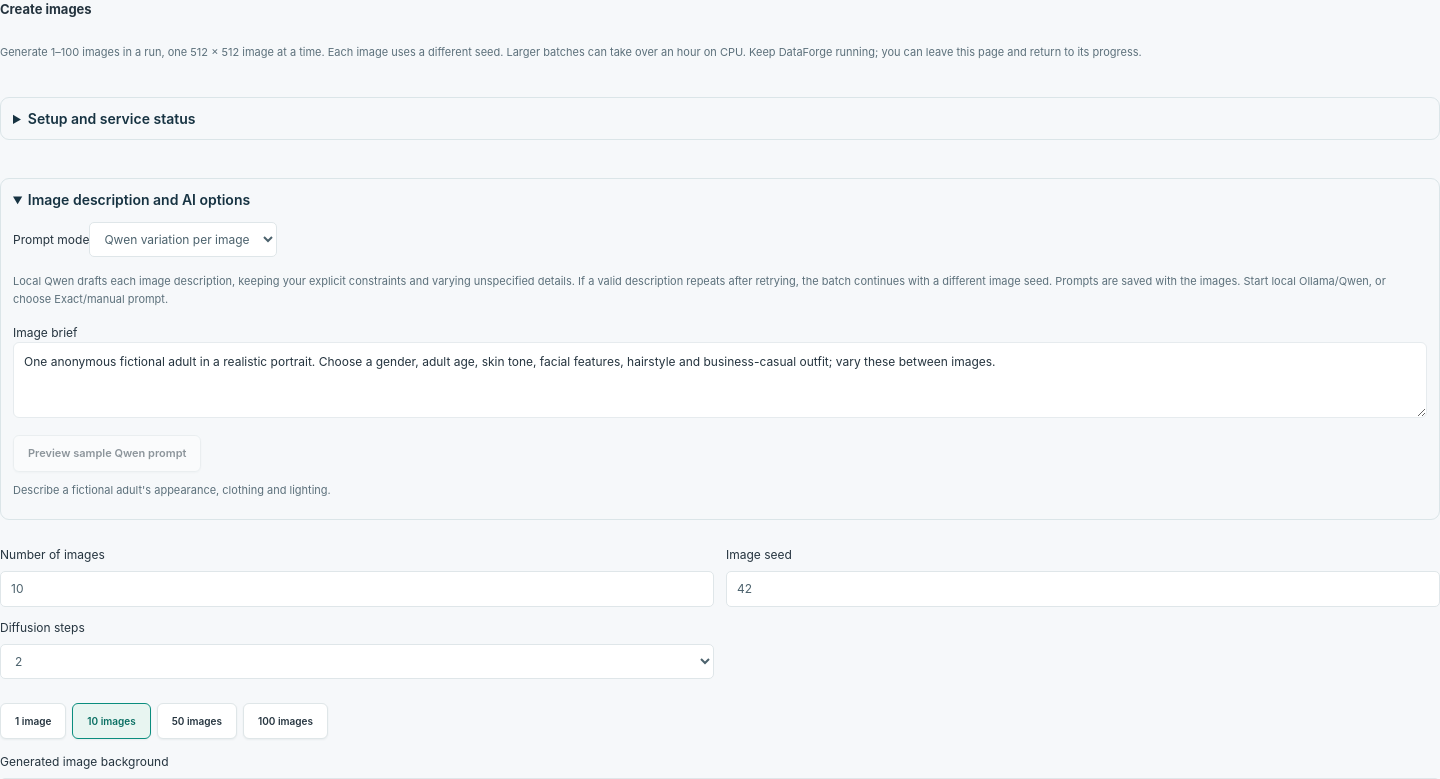
Test: shows setup instead of pretending an uninstalled model is ready
Select "Exact/manual prompt" in the dropdown labelled "Prompt mode" at point(183, 240), box top-left (89, 222), bottom-right (277, 257)
(page scrolled)
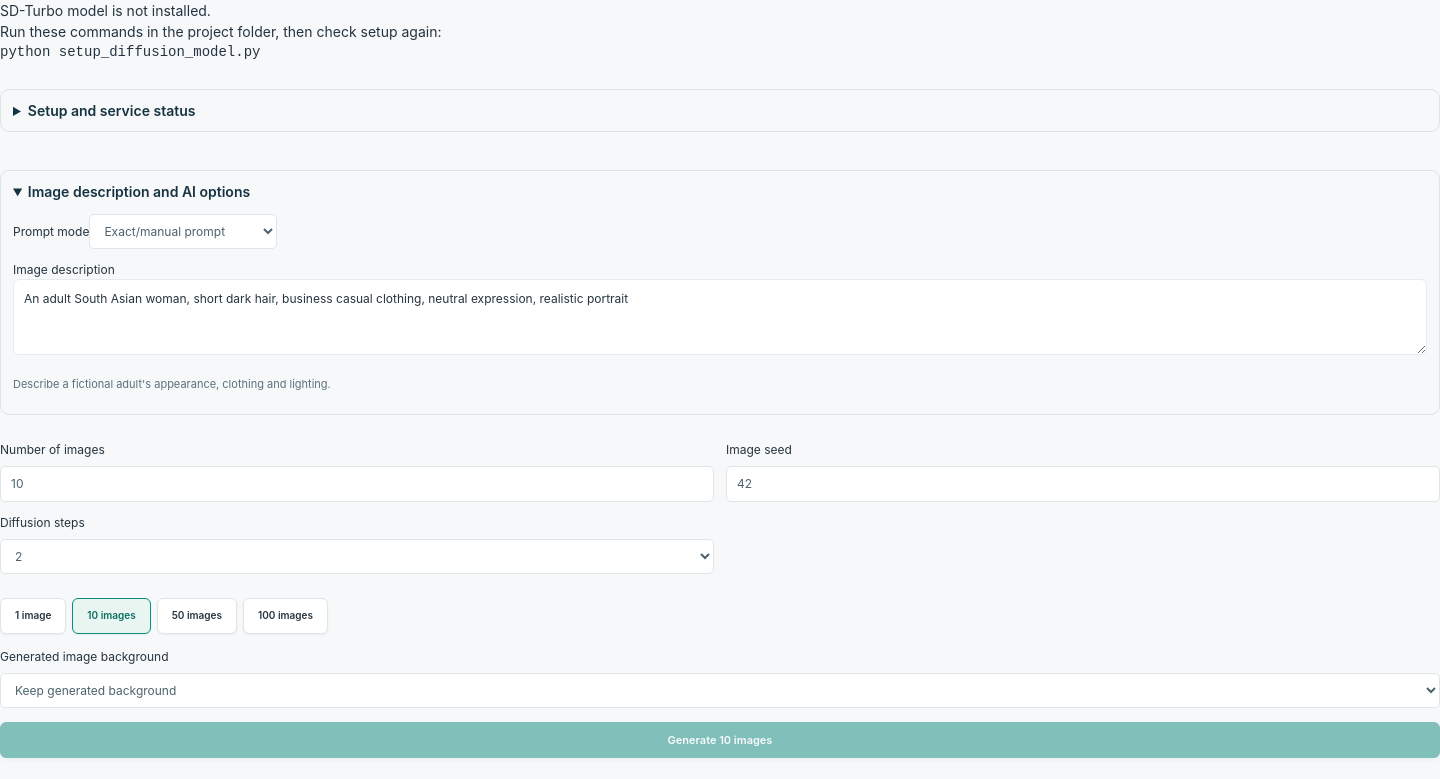
Expected: the button "Generate 10 images" is disabled, top-left (0, 722), bottom-right (1439, 758)
Expected: the text "SD-Turbo model is not installed." is shown, top-left (0, 2), bottom-right (211, 19)
